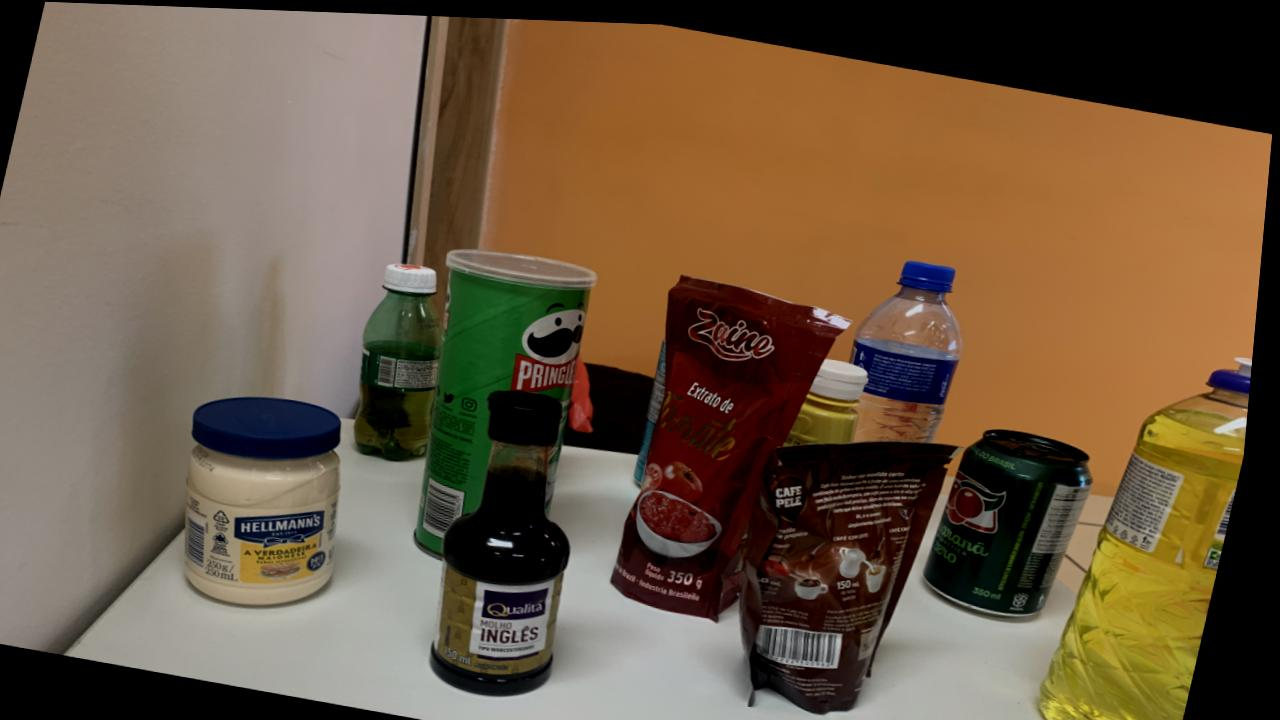Coffee-Pantry_Items: (750, 434, 965, 707)
Detergent-Cleanup_Items: (1051, 348, 1258, 720)
English_Sauce-Pantry_Items: (441, 386, 579, 691)
Guarana-Drinks: (361, 259, 449, 457)
Guarana_Can-Drinks: (933, 420, 1100, 607)
Mayonnaise-Pantry_Items: (193, 394, 349, 603)
Mustard-Pantry_Items: (791, 351, 874, 440)
Pringles-Snacks: (423, 244, 602, 553)
Tomato_Sauce-Pantry_Items: (621, 270, 854, 614)
Water_Bottle-Drinks: (855, 254, 969, 434)
